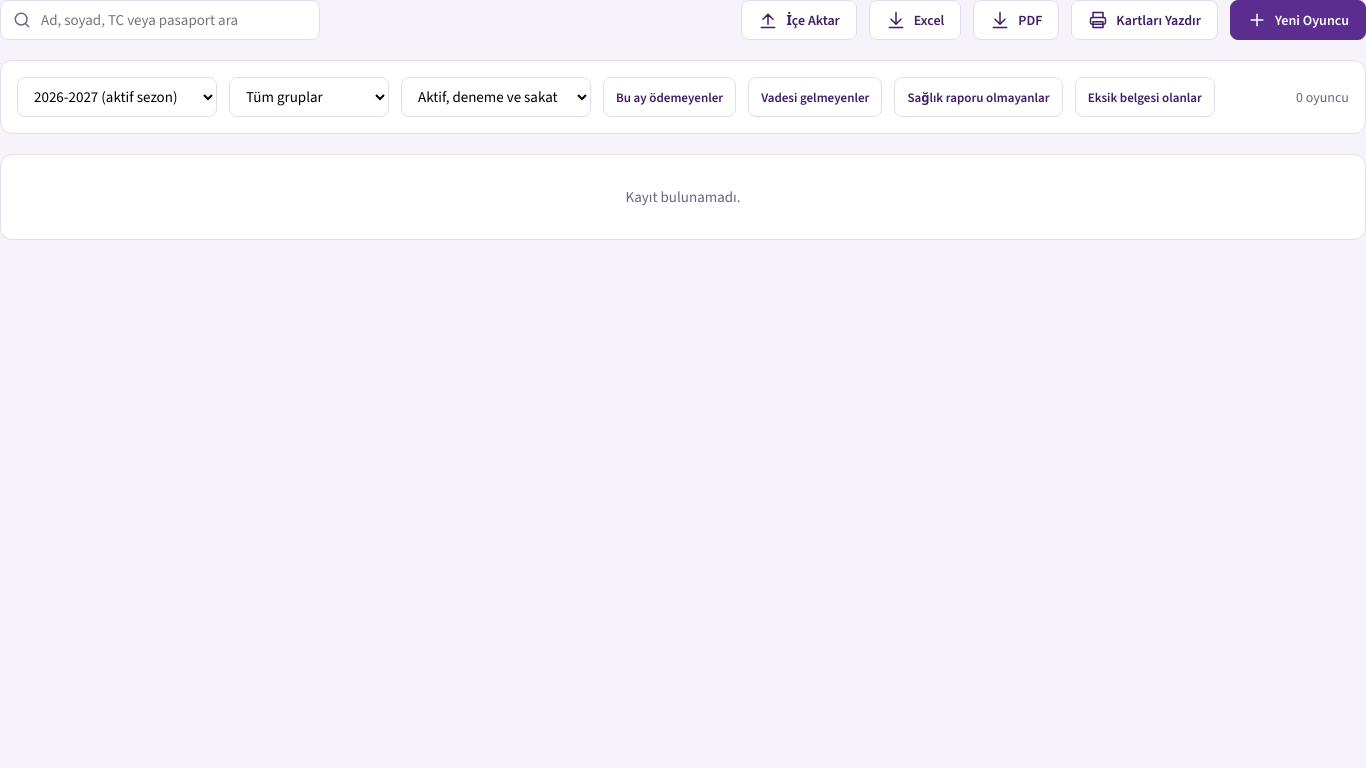
Test: Giriş Kartları penceresi › başlıktaki kutu tümünü seçer; Yazdır (2) toplu HTML basar, kayıt düşer, seçim temizlenir, liste yenilenir
The image size is (1366, 768).
Click the button "Kartları Yazdır".
click(1145, 20)  # box [1071,0,1218,40]
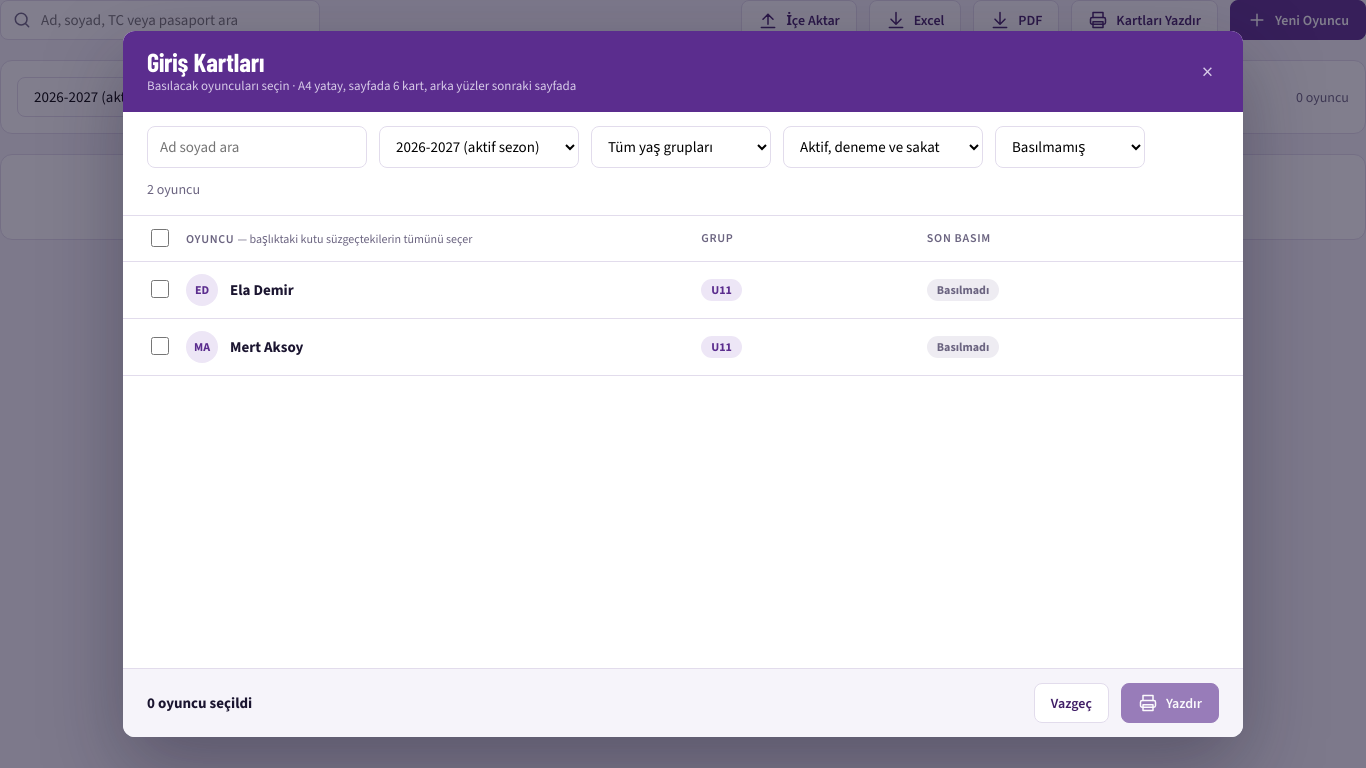
Expected: the text "Giriş Kartları" is shown, [147,46,264,77]
Expected: the text "Ela Demir" is shown, [230,280,294,300]
Click the checkbox named "Süzgeçtekilerin tümünü seç".
click(160, 238)  # box [151,229,169,247]
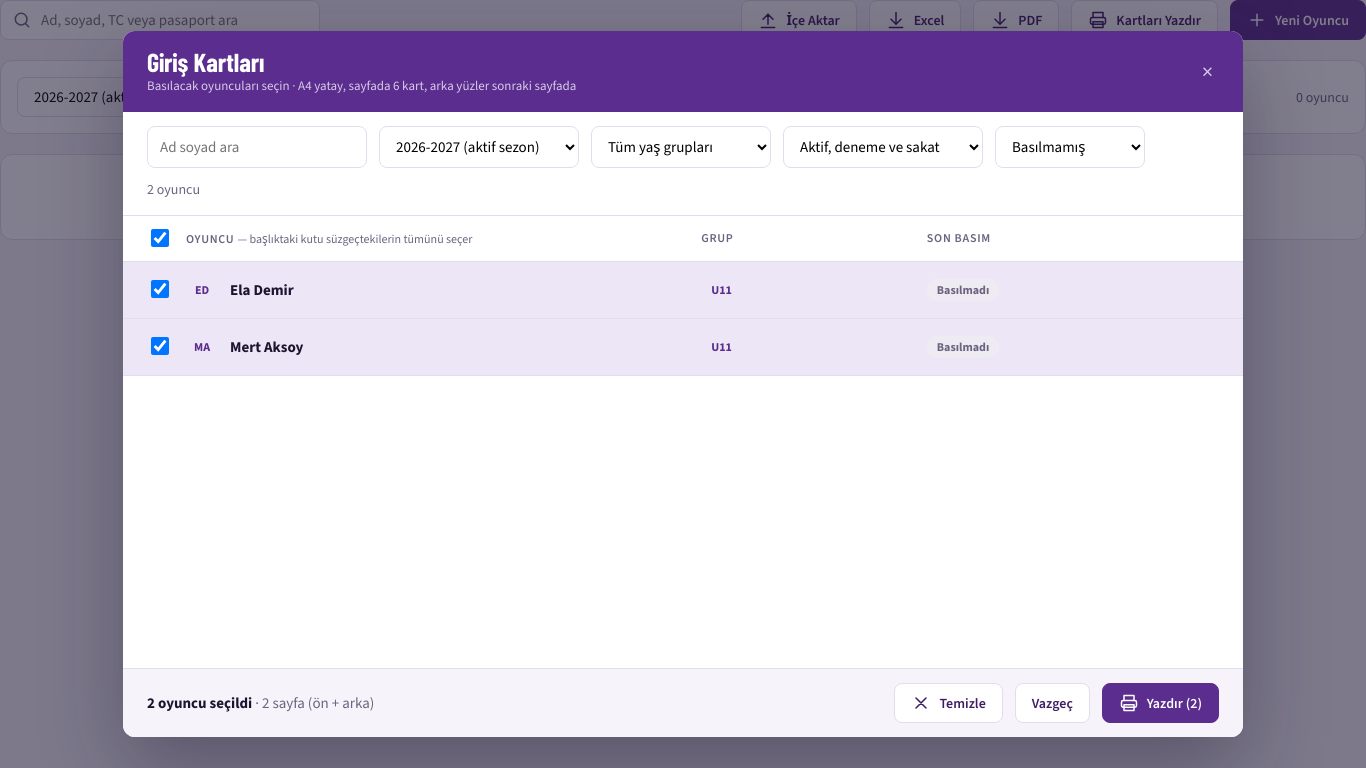
Expected: the text "2 oyuncu seçildi" is shown, [147,693,252,713]
Expected: the text "· 2 sayfa (ön + arka)" is shown, [252,693,374,713]
Click the button "Yazdır (2)".
click(1160, 703)  # box [1102,683,1219,723]
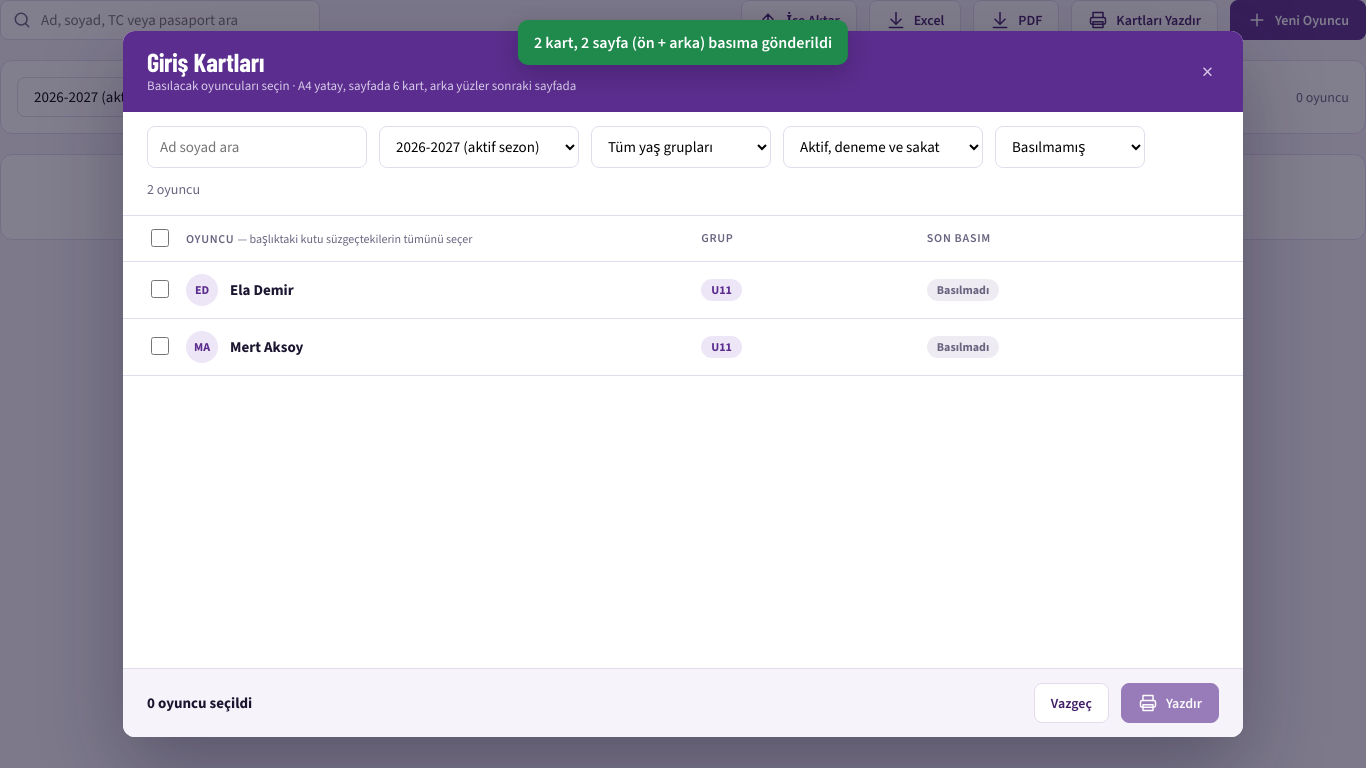
Expected: the dialog is shown
Expected: the text "2 kart, 2 sayfa (ön + arka) basıma gönderildi" is shown, [518,20,848,65]
Expected: the text "0 oyuncu seçildi" is shown, [147,693,252,713]
